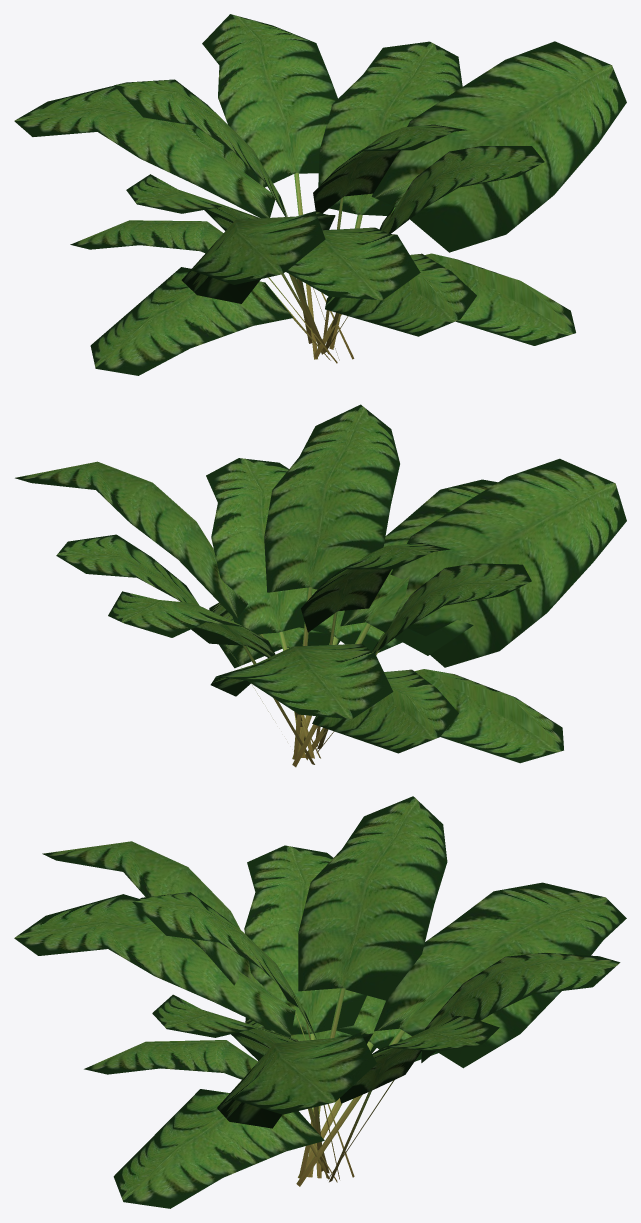
The model's file is jungle_fern_b.fbx.
The picture shows the model from 3 angles, top to bottom: view 1: azimuth 30°, elevation 25°; view 2: azimuth 150°, elevation 25°; view 3: azimuth 270°, elevation 25°; orthographic projection. The views are drawn at different scales.
Parts seen in each view (by area): view 1: leaf_1, leaf_8, leaf_9, leaf_7, leaf_11, leaf_12, leaf_4, leaf_6, leaf_3, leaf_5, leaf_13, leaf_2 (+2 smaller); view 2: leaf_12, leaf_2, leaf_5, leaf_9, leaf_1, leaf_11, leaf_14, leaf_4, leaf_8, leaf_10, leaf_13, leaf_7 (+2 smaller); view 3: leaf_13, leaf_9, leaf_4, leaf_6, leaf_10, leaf_1, leaf_8, leaf_12, leaf_2, leaf_7, leaf_3, leaf_5 (+1 smaller).
Boxes of the visible parts, left/top/right/bottom form: leaf_1: left=314, top=41, right=626, bottom=359; leaf_8: left=202, top=14, right=337, bottom=359; leaf_9: left=14, top=85, right=354, bottom=359; leaf_7: left=318, top=41, right=462, bottom=349; leaf_11: left=90, top=267, right=330, bottom=375; leaf_12: left=181, top=211, right=335, bottom=354; leaf_4: left=286, top=227, right=420, bottom=343; leaf_6: left=327, top=253, right=575, bottom=348; leaf_3: left=325, top=253, right=476, bottom=347; leaf_5: left=332, top=146, right=544, bottom=323; leaf_13: left=114, top=79, right=339, bottom=360; leaf_2: left=313, top=124, right=466, bottom=337; leaf_12: left=305, top=458, right=626, bottom=760; leaf_2: left=264, top=404, right=399, bottom=759; leaf_5: left=206, top=458, right=317, bottom=758; leaf_9: left=210, top=643, right=393, bottom=740; leaf_1: left=15, top=461, right=320, bottom=758; leaf_11: left=316, top=669, right=563, bottom=763; leaf_14: left=312, top=669, right=458, bottom=753; leaf_4: left=292, top=479, right=497, bottom=767; leaf_8: left=108, top=591, right=314, bottom=764; leaf_10: left=372, top=563, right=531, bottom=653; leaf_13: left=301, top=543, right=450, bottom=746; leaf_7: left=56, top=534, right=273, bottom=719; leaf_13: left=298, top=796, right=447, bottom=1178; leaf_9: left=296, top=882, right=626, bottom=1186; leaf_4: left=14, top=894, right=354, bottom=1177; leaf_6: left=113, top=1089, right=329, bottom=1208; leaf_10: left=244, top=845, right=366, bottom=1178; leaf_1: left=217, top=1032, right=376, bottom=1171; leaf_8: left=328, top=953, right=620, bottom=1179; leaf_12: left=42, top=841, right=328, bottom=1178; leaf_2: left=132, top=892, right=339, bottom=1179; leaf_7: left=329, top=1016, right=499, bottom=1182; leaf_3: left=84, top=1040, right=337, bottom=1182; leaf_5: left=152, top=994, right=329, bottom=1173.
Bounding box in the file's own units: 872 × 443 × 819.
Materials: 2 (2 with a texture image).
